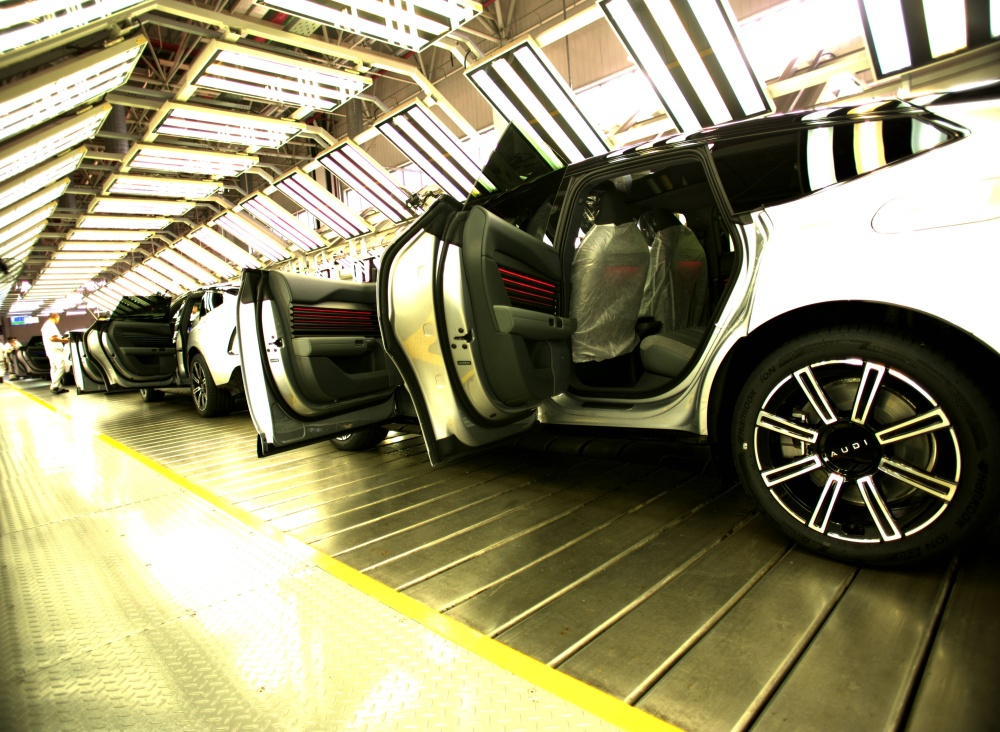armrest_color: (491, 303, 575, 340), (293, 337, 380, 355)
panel_color: (495, 260, 561, 315), (284, 300, 374, 334)
